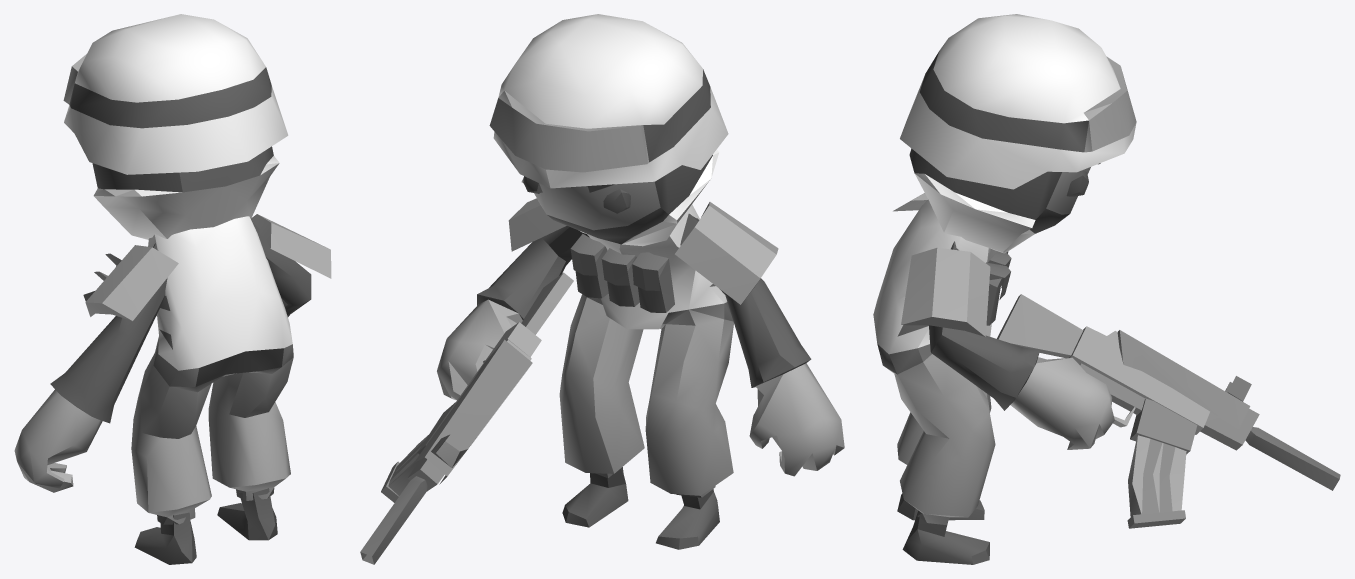
File: clearance_trooper.glb
3 renders of one model, left to right at view 1: azimuth 30°, elevation 25°; view 2: azimuth 150°, elevation 25°; view 3: azimuth 270°, elevation 25°, orthographic. The views are drawn at different scales.
Parts seen in each view (by area): view 1: Body; view 2: Body; view 3: Body.
Part boxes in pixels (box(x1,y1,x2,y2)): Body: box(14, 14, 331, 564); Body: box(360, 14, 844, 564); Body: box(873, 14, 1340, 564).
Size of the model in its own units: 1.28 by 1.8 by 1.5.
Materials: 2 (1 with a texture image).
